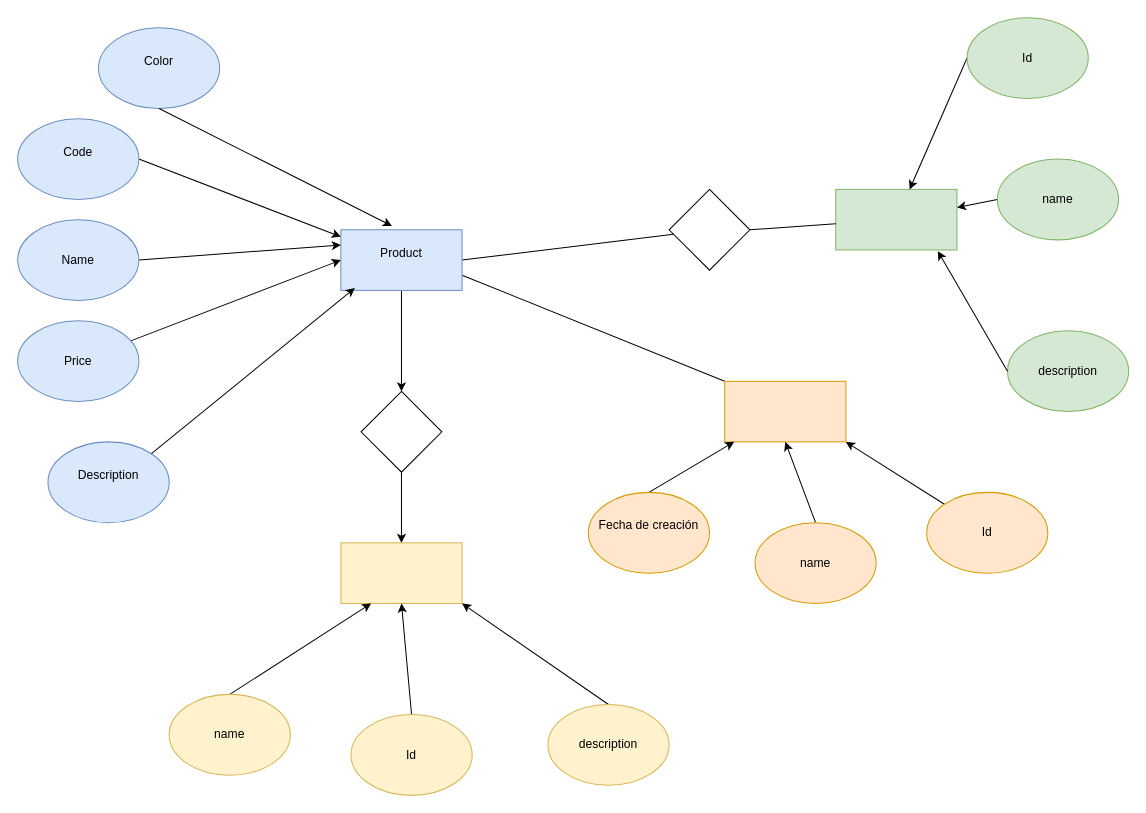
The diagram is 1146 pixels wide and 813 high, and some of its shapes have lost their labels. Here are the shapes that lost their labels. From the top down, the centre of each, then its label:
pixel 896 219: Category
pixel 401 431: tiene
pixel 785 411: Proveedores
pixel 401 572: Unidad de medida
